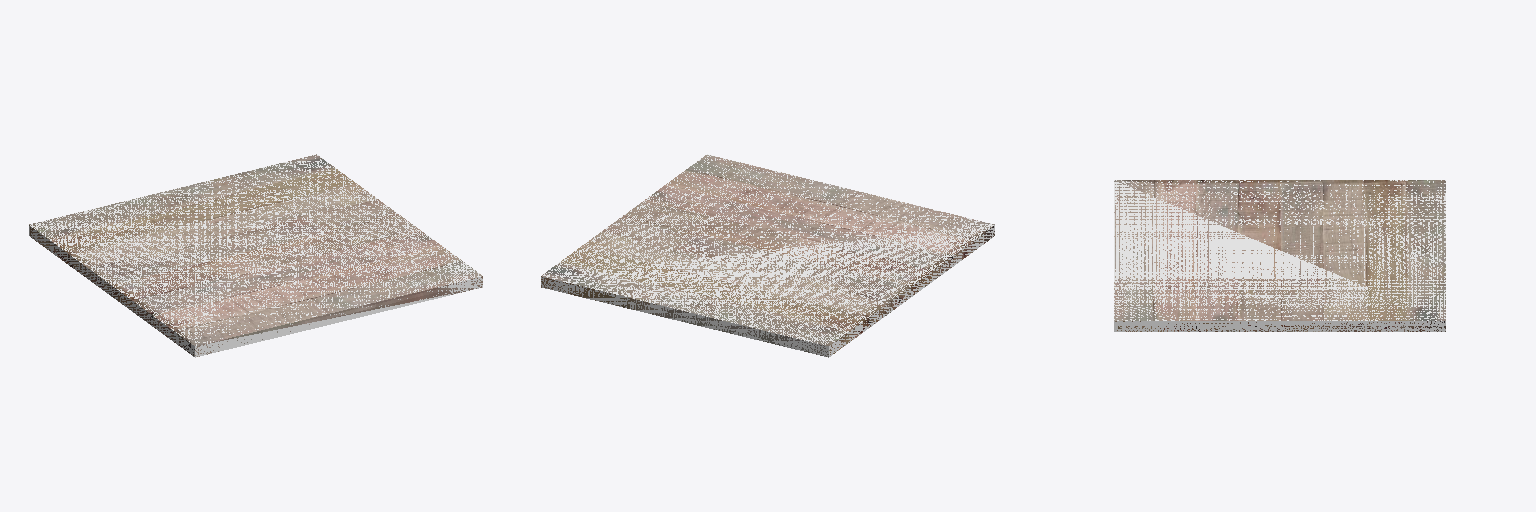
The picture shows the model from 3 angles: view 1: azimuth 30°, elevation 25°; view 2: azimuth 150°, elevation 25°; view 3: azimuth 270°, elevation 25°; orthographic projection.
Parts seen in each view (by area): view 1: mesh29/mesh29-geometry#mesh29-geometry; view 2: mesh29/mesh29-geometry#mesh29-geometry; view 3: mesh29/mesh29-geometry#mesh29-geometry.
Part boxes in pixels (x1,y1,x2,y2): mesh29/mesh29-geometry#mesh29-geometry: (29, 154, 482, 357); mesh29/mesh29-geometry#mesh29-geometry: (541, 154, 994, 357); mesh29/mesh29-geometry#mesh29-geometry: (1114, 180, 1445, 331).
Size of the model in its own units: 1.36 by 0.0503 by 1.36.
Materials: 6 (5 with a texture image).